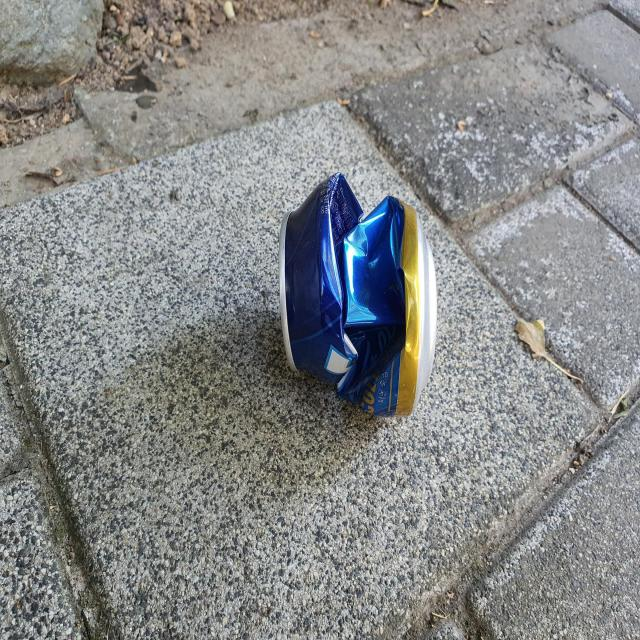can: (279, 172, 437, 417)
